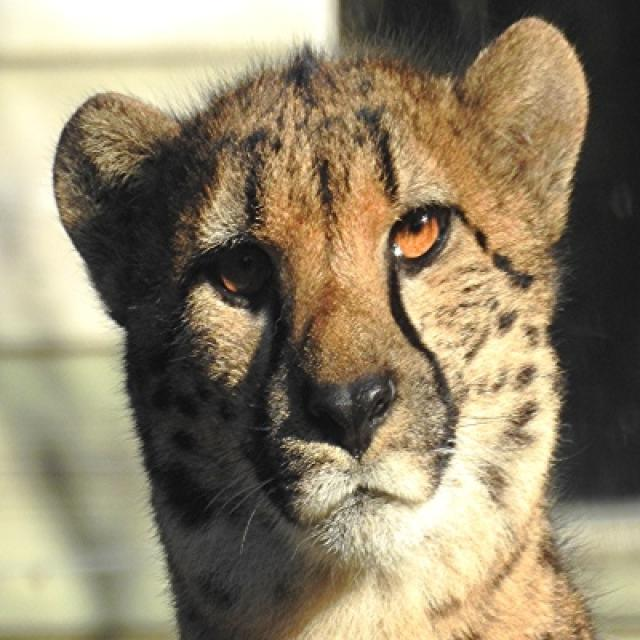Cheetah: (43, 15, 603, 638)
